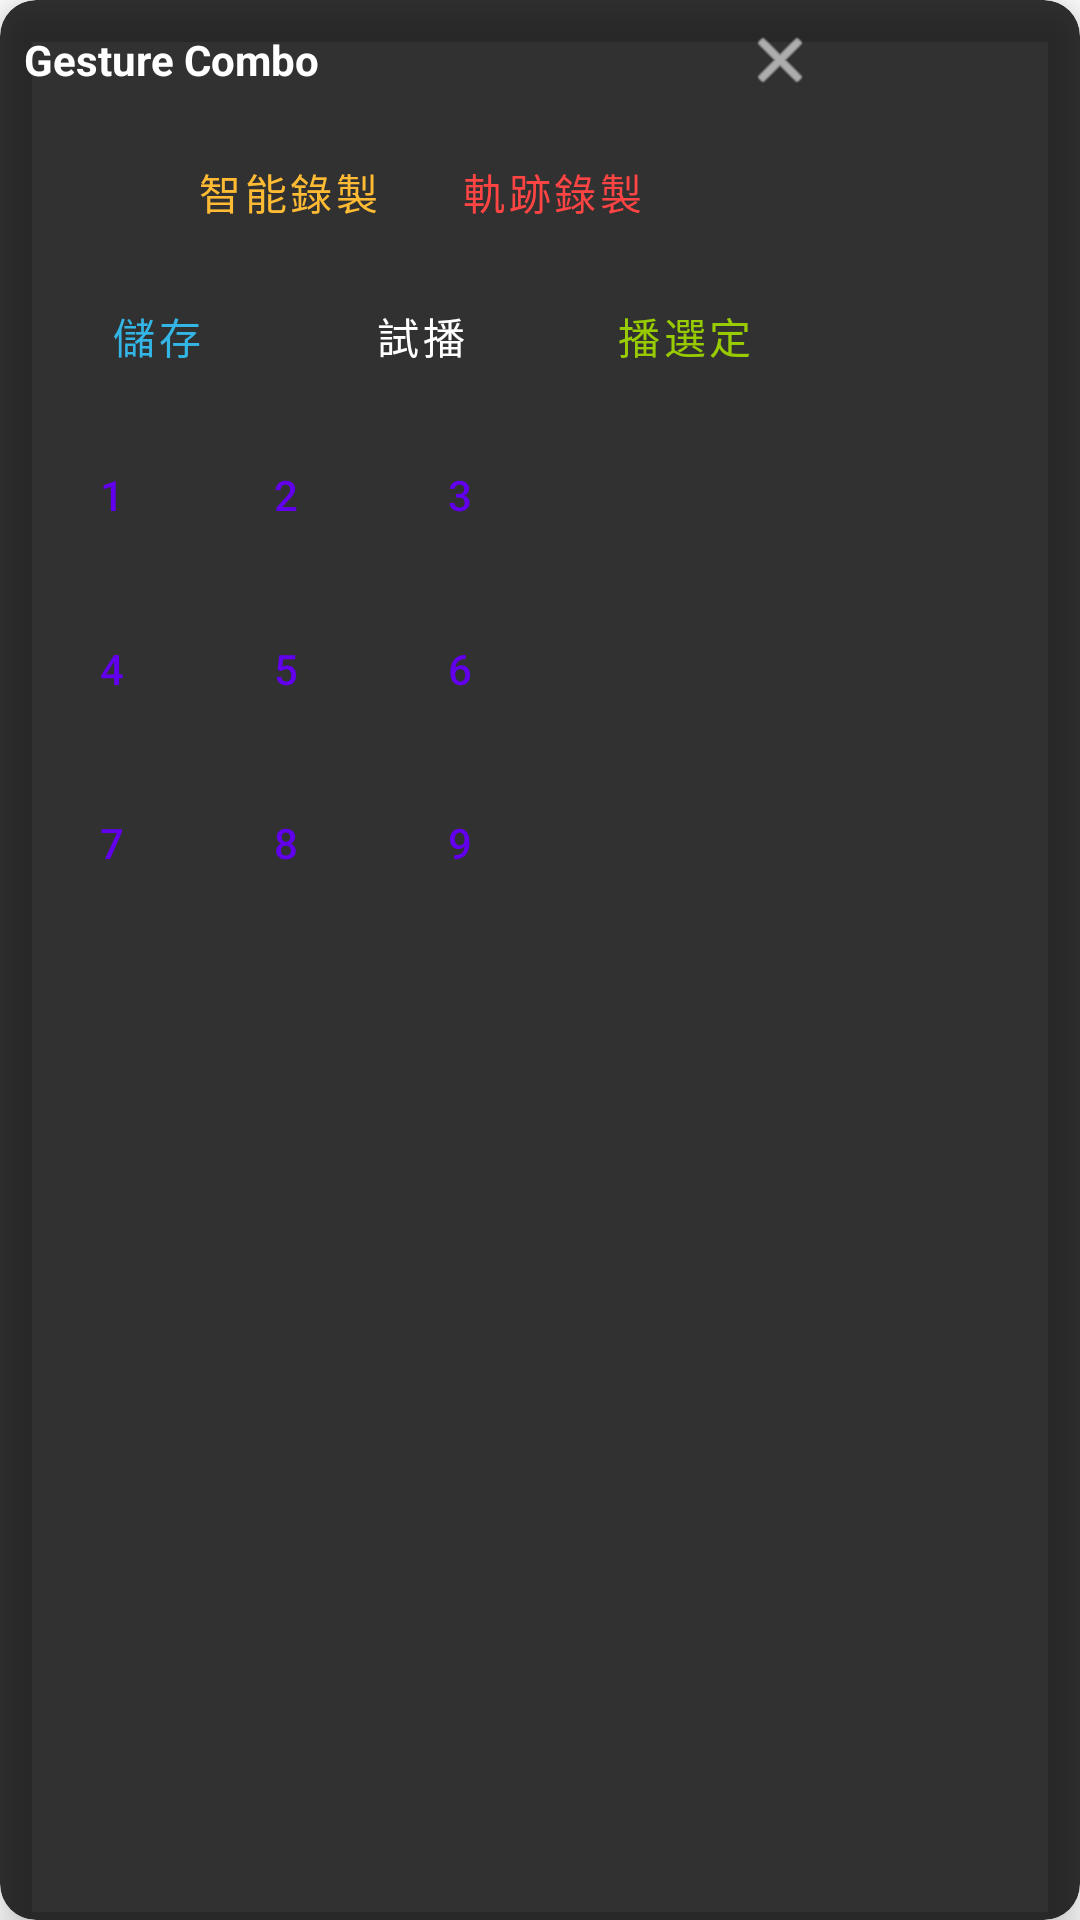

Named icons in this screenshot (1080px x 1920px) and their centers, point (x, y):
close clear cancel: point (780, 60)
